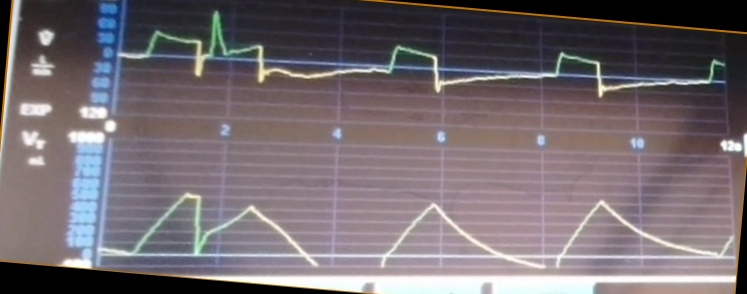Double_Triggering Flow: (127, 8, 655, 112)
Double_Triggering Volume: (109, 172, 679, 269)
